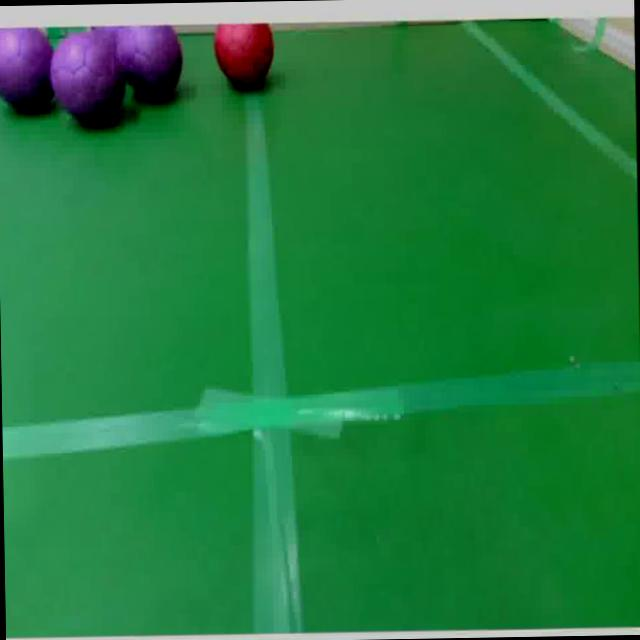purple_ball: (50, 32, 126, 129), (118, 24, 186, 99), (0, 29, 53, 112)
red_ball: (213, 23, 275, 93)
